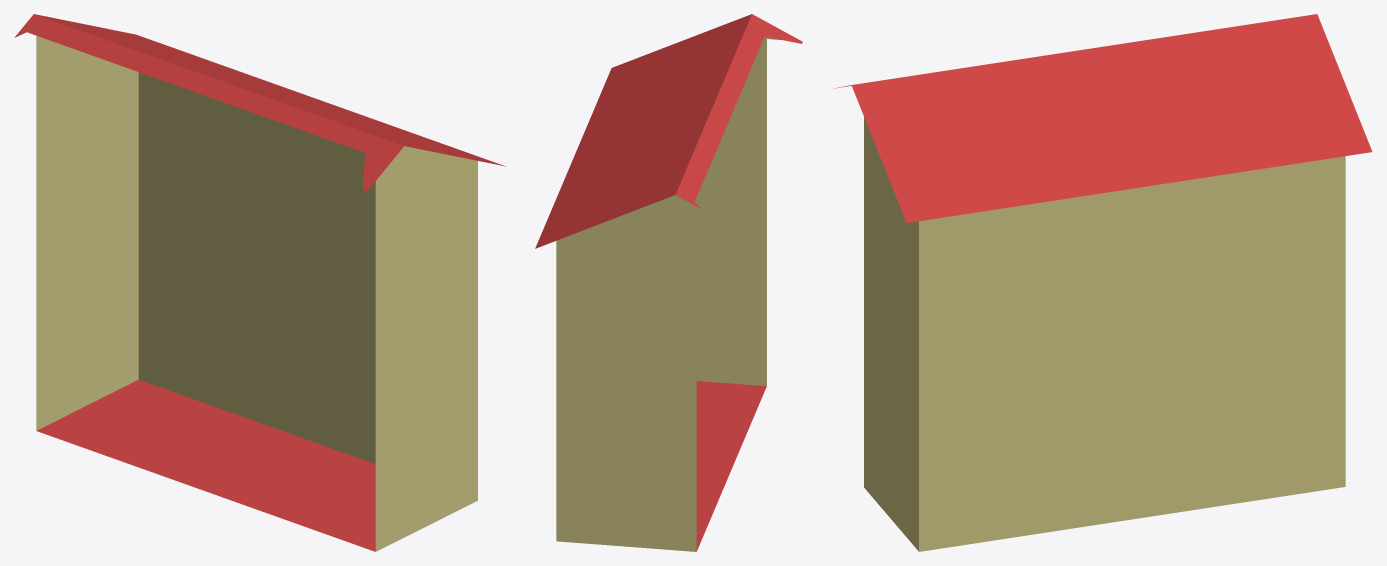
3 renders of one model, left to right at view 1: azimuth 30°, elevation 25°; view 2: azimuth 150°, elevation 25°; view 3: azimuth 270°, elevation 25°, orthographic. The views are drawn at different scales.
Bounding box in the file's own units: 8.4 × 12.98 × 10.95.
